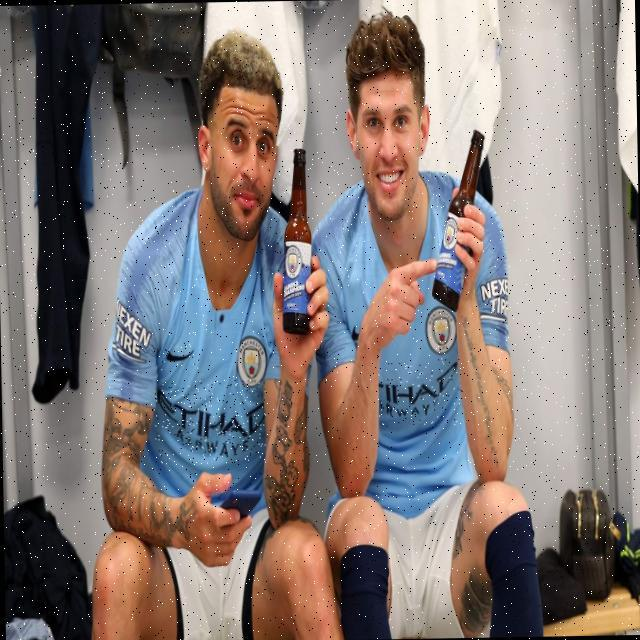Etihad Airways: (153, 379, 268, 464), (379, 358, 464, 426)
Nike: (160, 341, 203, 370)
